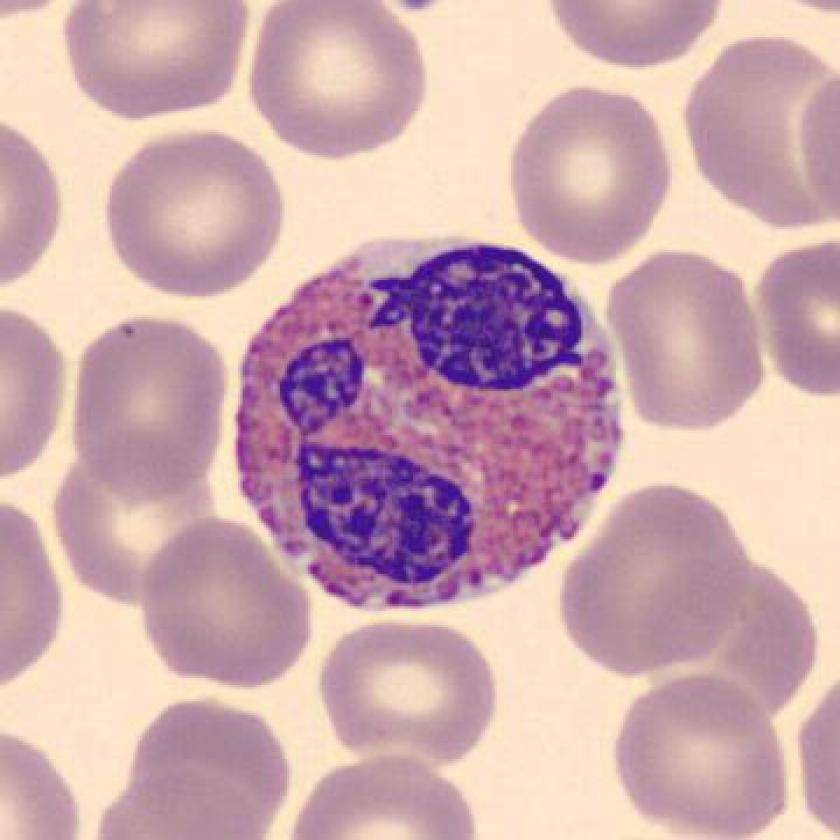eosinophil: (216, 223, 640, 619)
